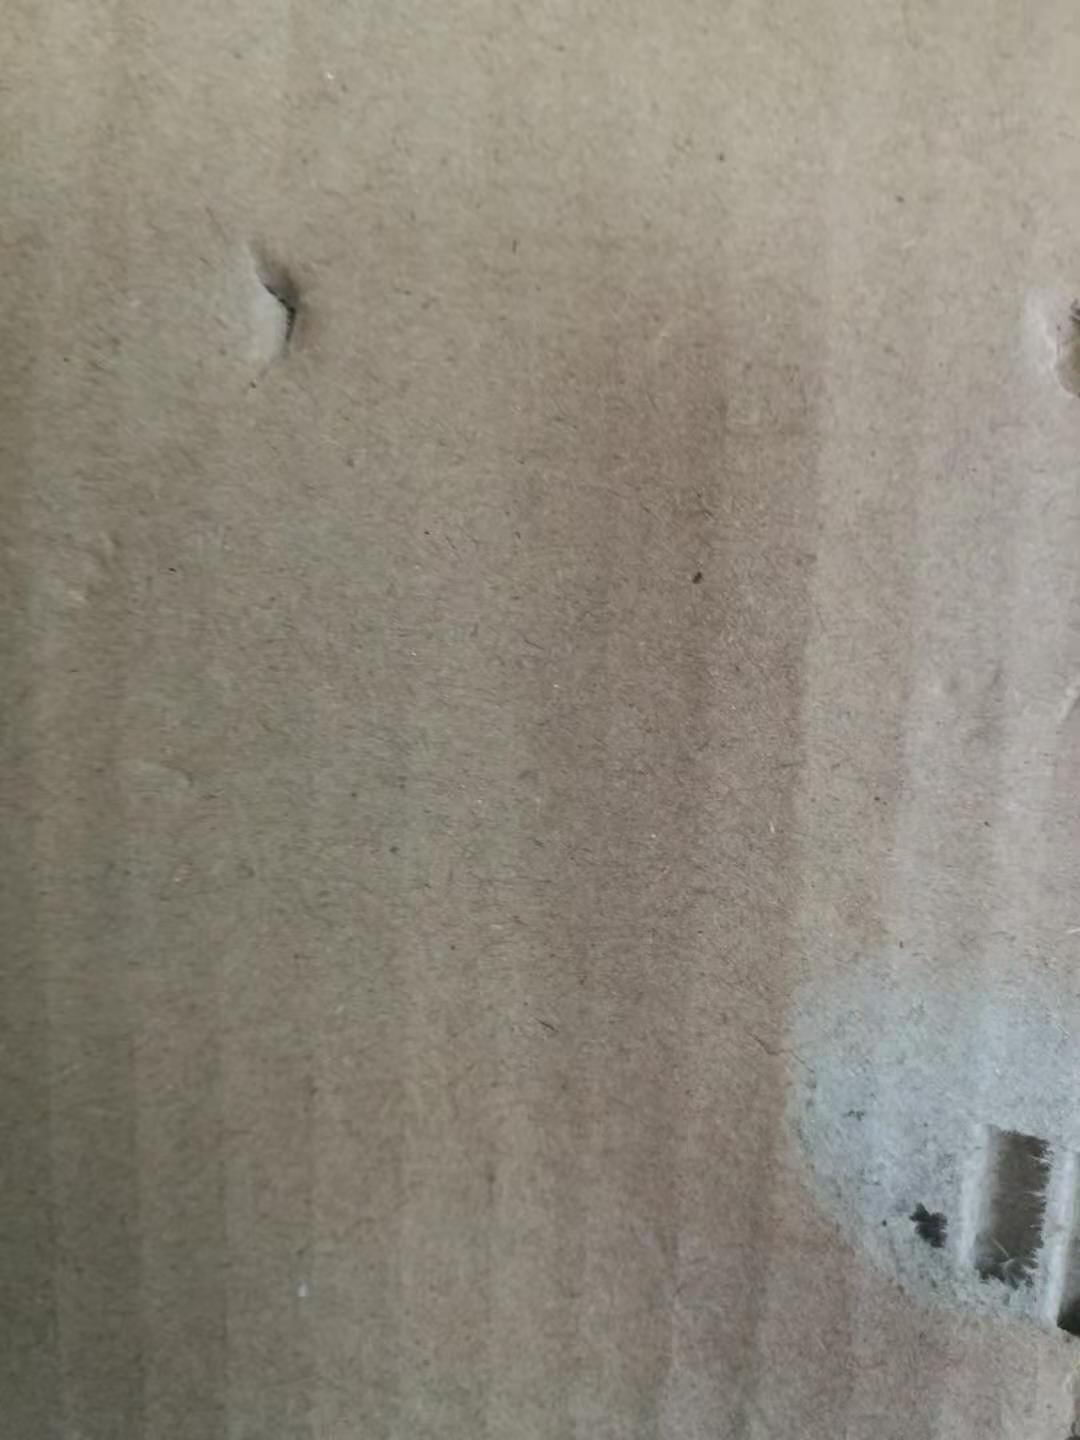defect: (754, 924, 1080, 1377), (208, 207, 346, 412), (1014, 276, 1080, 420)
